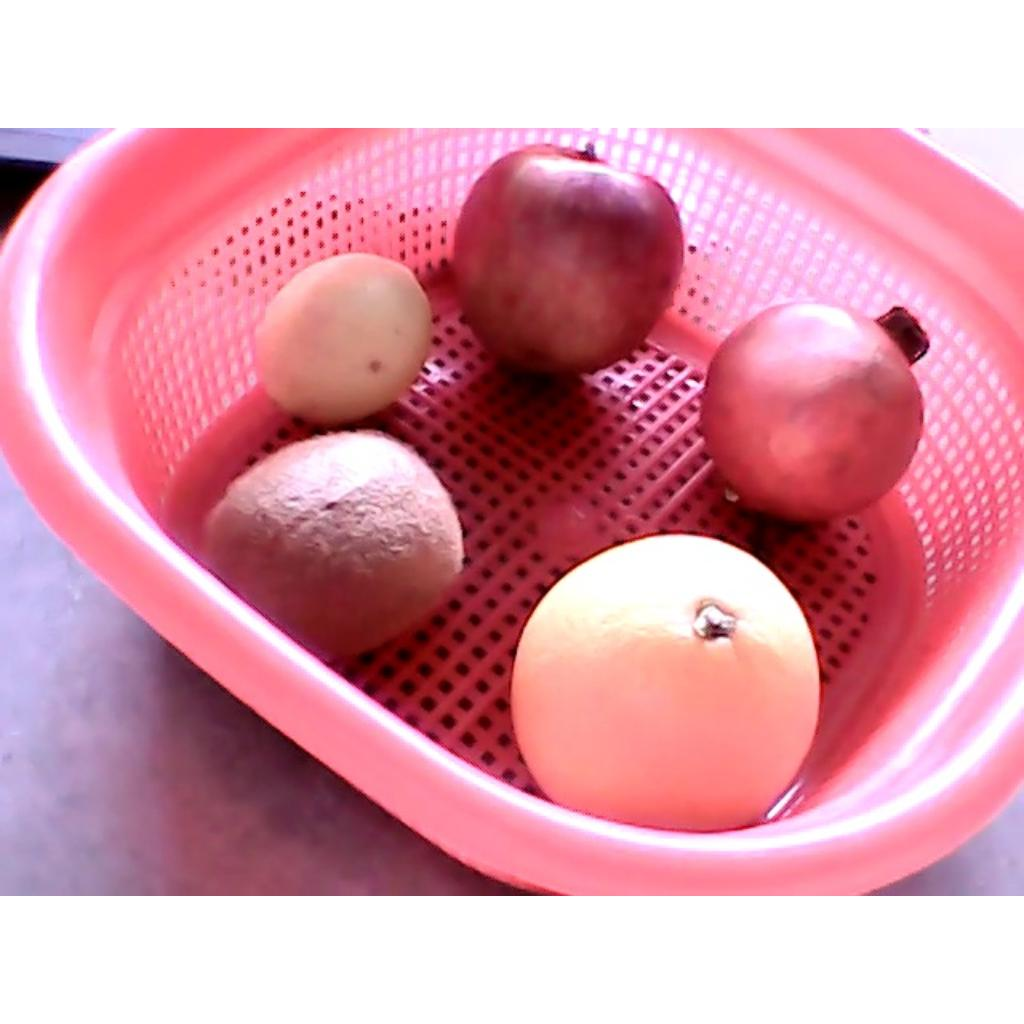apple: (454, 143, 686, 375)
kiwi: (202, 430, 464, 657)
lemon: (256, 254, 431, 422)
orange: (511, 534, 820, 834)
pomegranate: (702, 302, 932, 523)
